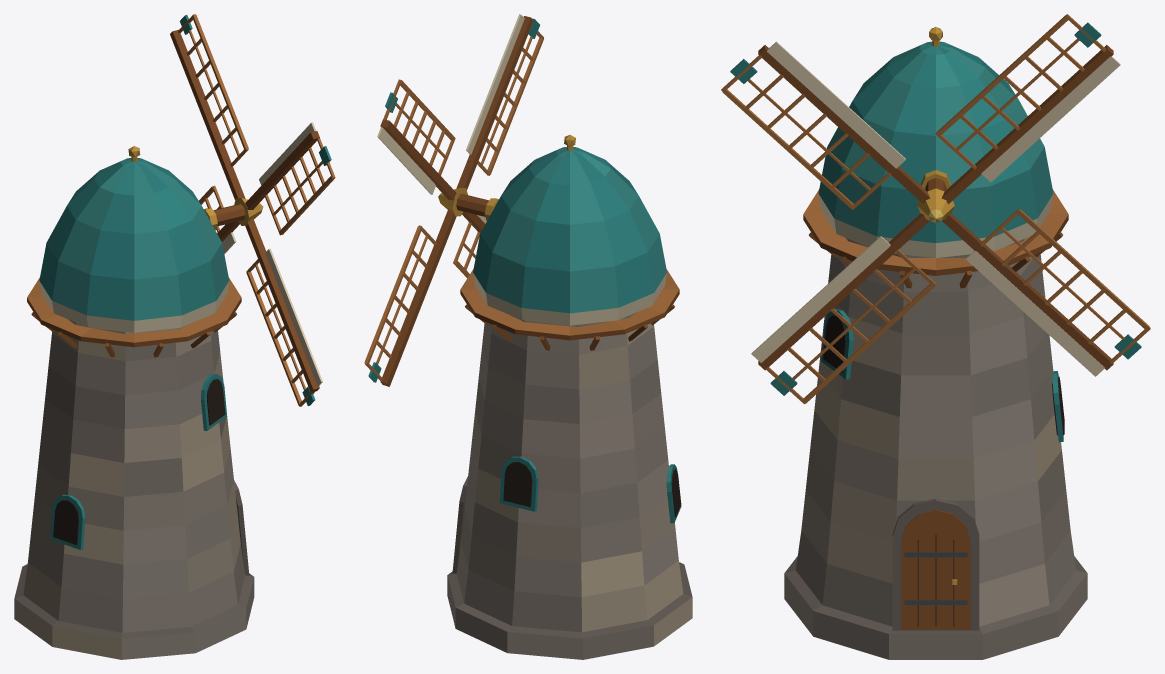
The model's file is windmill.glb.
3 views of the same model, side by side, from view 1: azimuth 30°, elevation 25°; view 2: azimuth 150°, elevation 25°; view 3: azimuth 270°, elevation 25° (orthographic). The views are drawn at different scales.
Parts seen in each view (by area): view 1: windmill, blades; view 2: windmill, blades; view 3: windmill, blades.
Part boxes in pixels (box(x1,y1,x2,y2)): windmill: box(14, 146, 254, 659); blades: box(170, 14, 335, 406); windmill: box(447, 134, 692, 659); blades: box(364, 14, 543, 386); windmill: box(784, 27, 1087, 659); blades: box(721, 14, 1150, 404).
Size of the model in its own units: 5.2 by 11.4 by 6.8.
